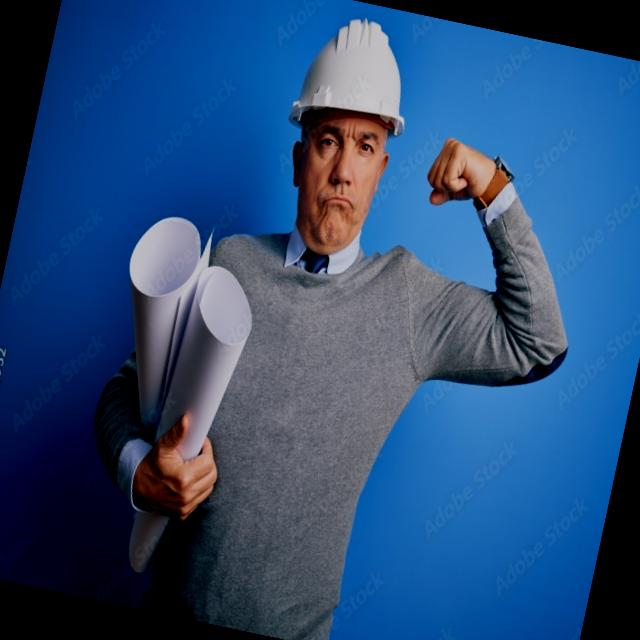helmet: (264, 0, 433, 169)
no-goggles: (294, 112, 392, 170)
no-vest: (127, 198, 451, 640)
